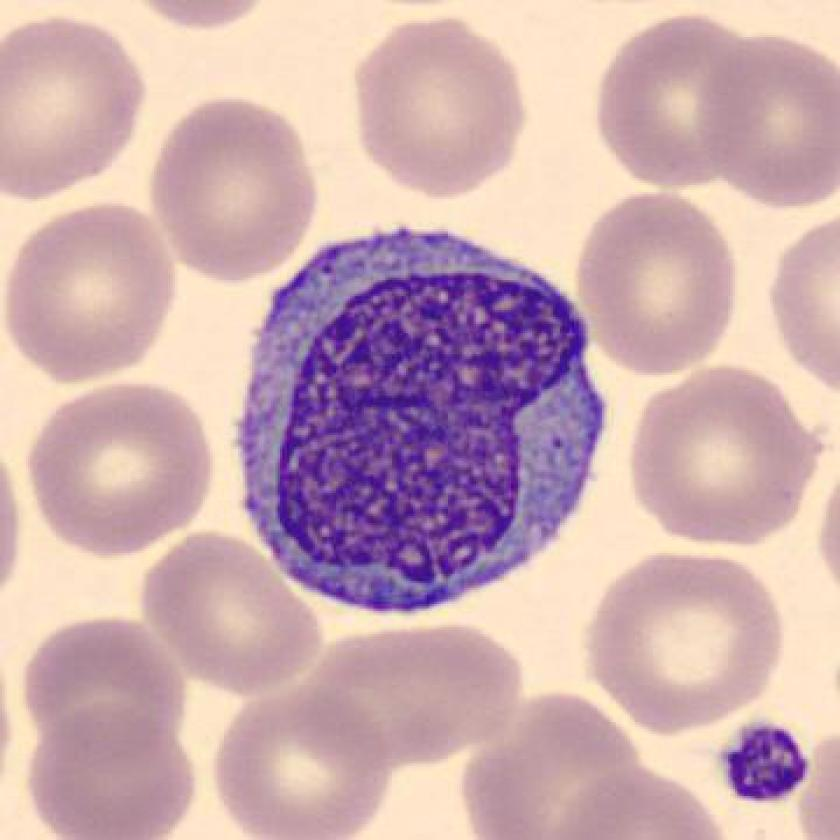monocyte: (225, 223, 622, 649)
